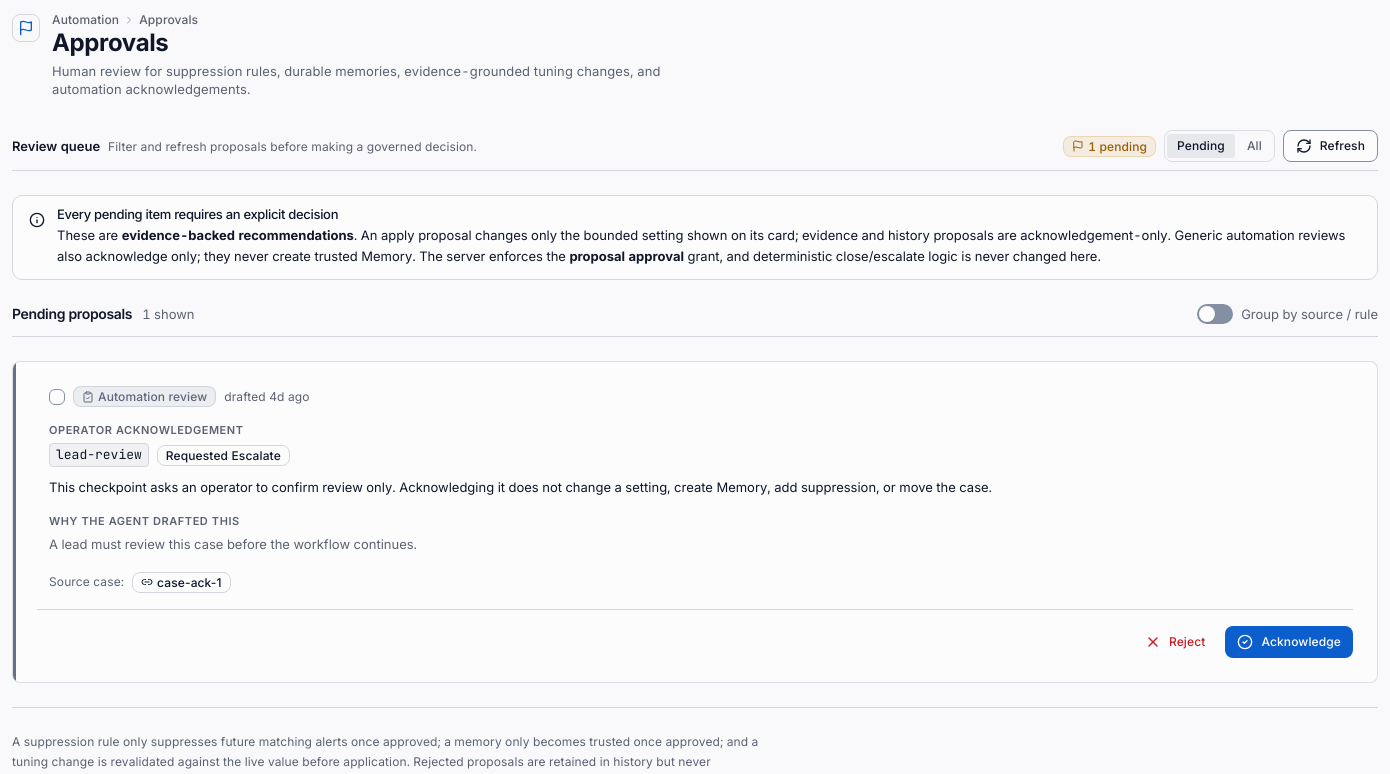
Test: Approvals automation acknowledgements › acknowledges with an explicit no-materialisation confirmation
Expected: the text "lead-review" is shown, [49,443,149,467]
Click the button "Acknowledge" at [1289, 642], box [1225,626,1353,658]
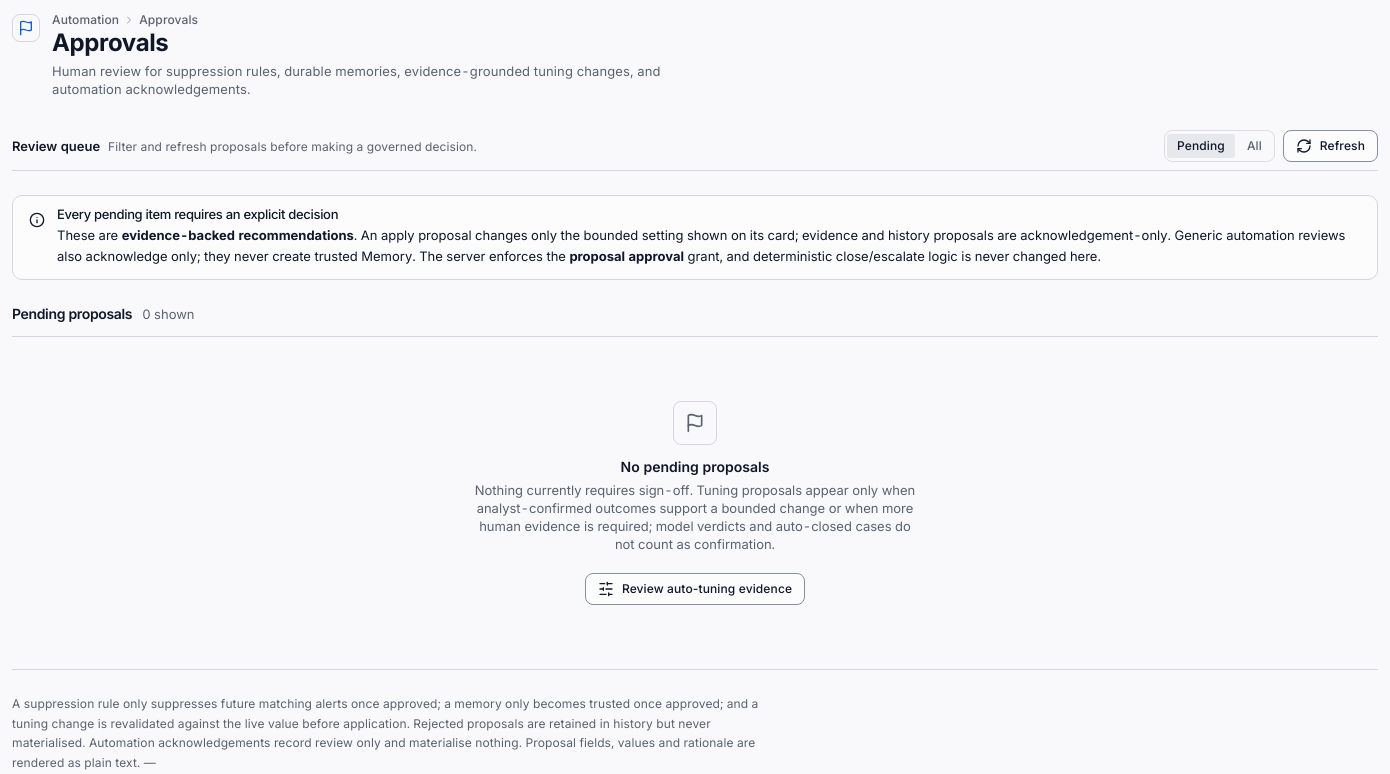
Now the text "No pending proposals" is shown, box [621,458,769,475]
